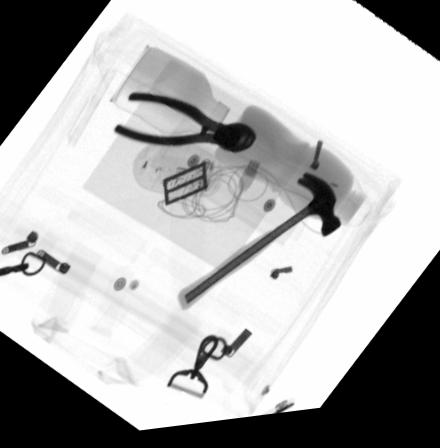Hammer: (176, 178, 340, 316)
Pliers: (111, 94, 257, 158)
